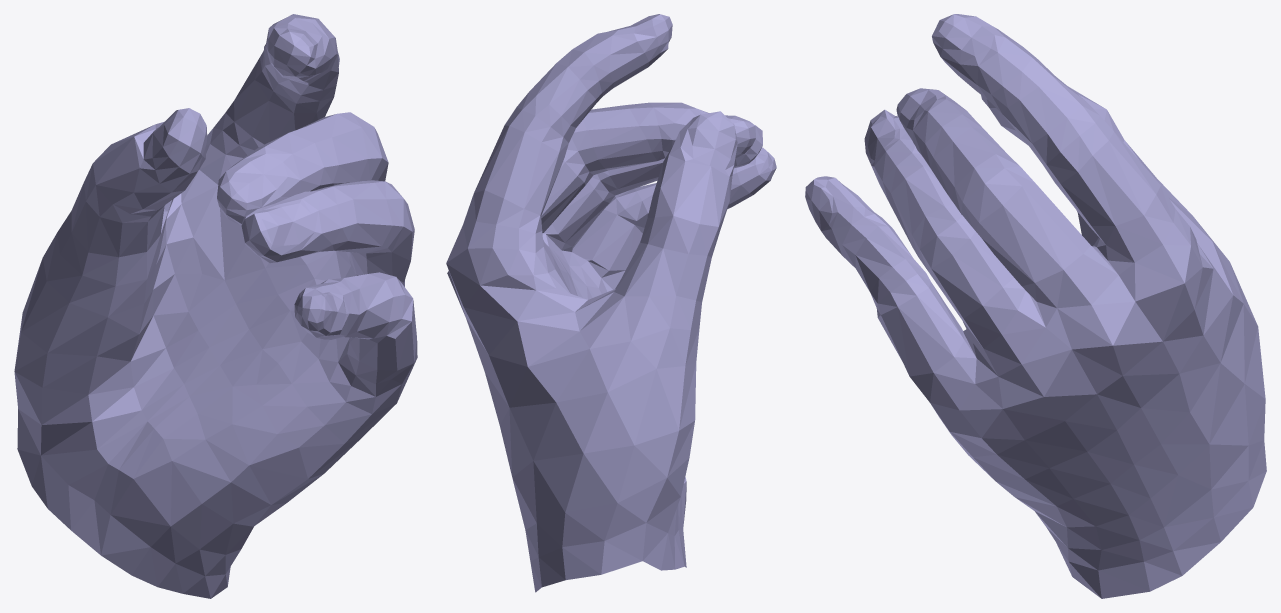
Rendered from hand_0001.glb.
3 views of the same model, side by side, from view 1: azimuth 30°, elevation 25°; view 2: azimuth 150°, elevation 25°; view 3: azimuth 270°, elevation 25° (orthographic). The views are drawn at different scales.
Visible parts, largest first — view 1: world; view 2: world; view 3: world.
Boxes of the visible parts, left/top/right/bottom form: world: left=14, top=14, right=417, bottom=598; world: left=446, top=14, right=776, bottom=592; world: left=805, top=14, right=1266, bottom=598.
Size of the model in its own units: 0.0815 by 0.1569 by 0.1138.
